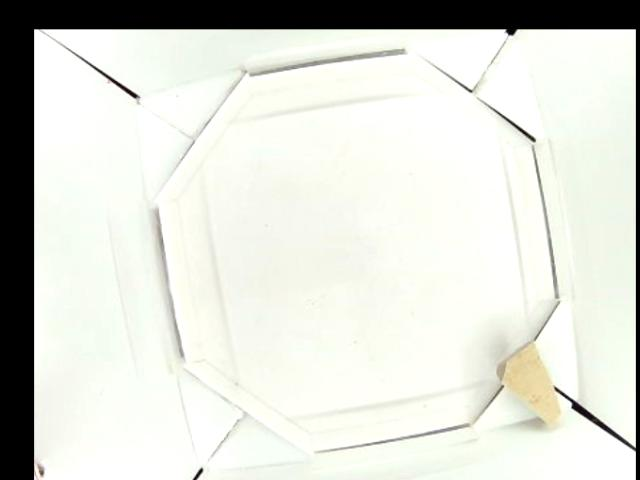China: (498, 342, 561, 430)
